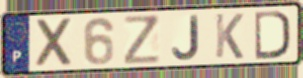6: (81, 16, 115, 67)
D: (253, 9, 293, 61)
J: (170, 14, 201, 62)
K: (213, 12, 245, 61)
X: (34, 15, 75, 70)
Z: (123, 13, 163, 67)
